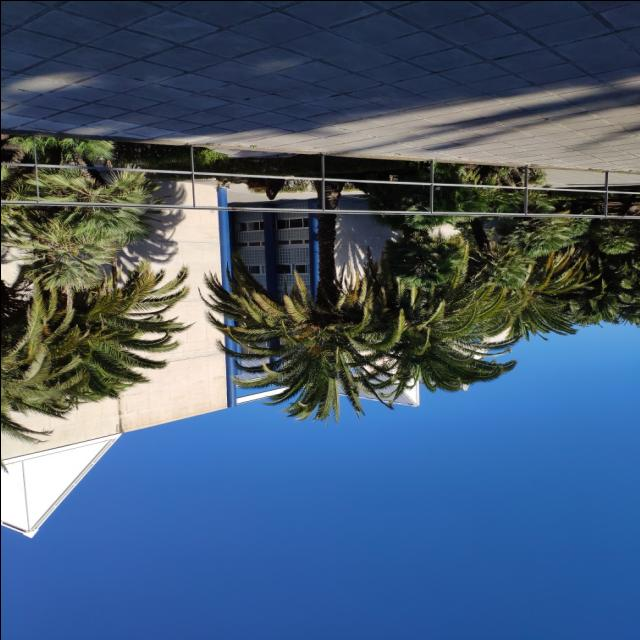Palm-Trees: (228, 198, 418, 424)
